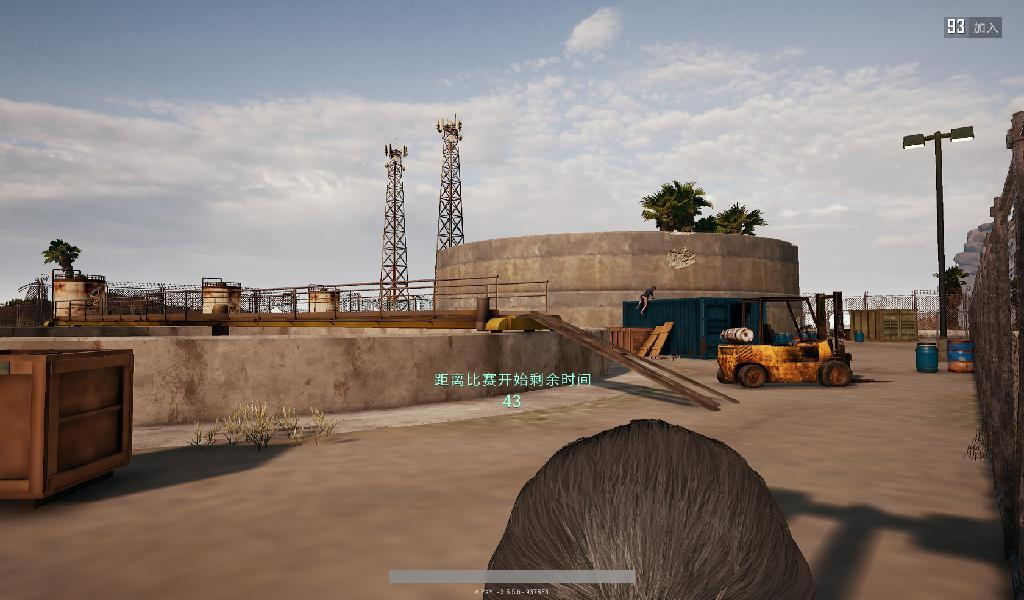Target Person: (634, 283, 657, 316), (88, 285, 104, 308)
